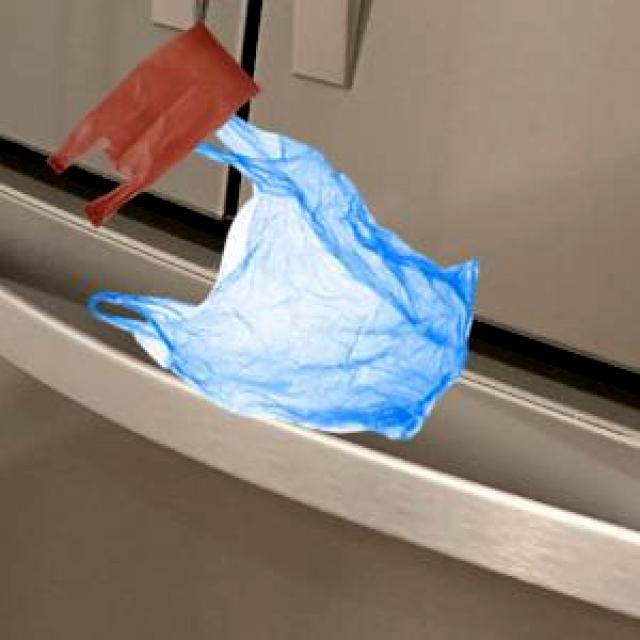Plastic_Bag: (86, 111, 475, 436), (44, 18, 258, 225)
